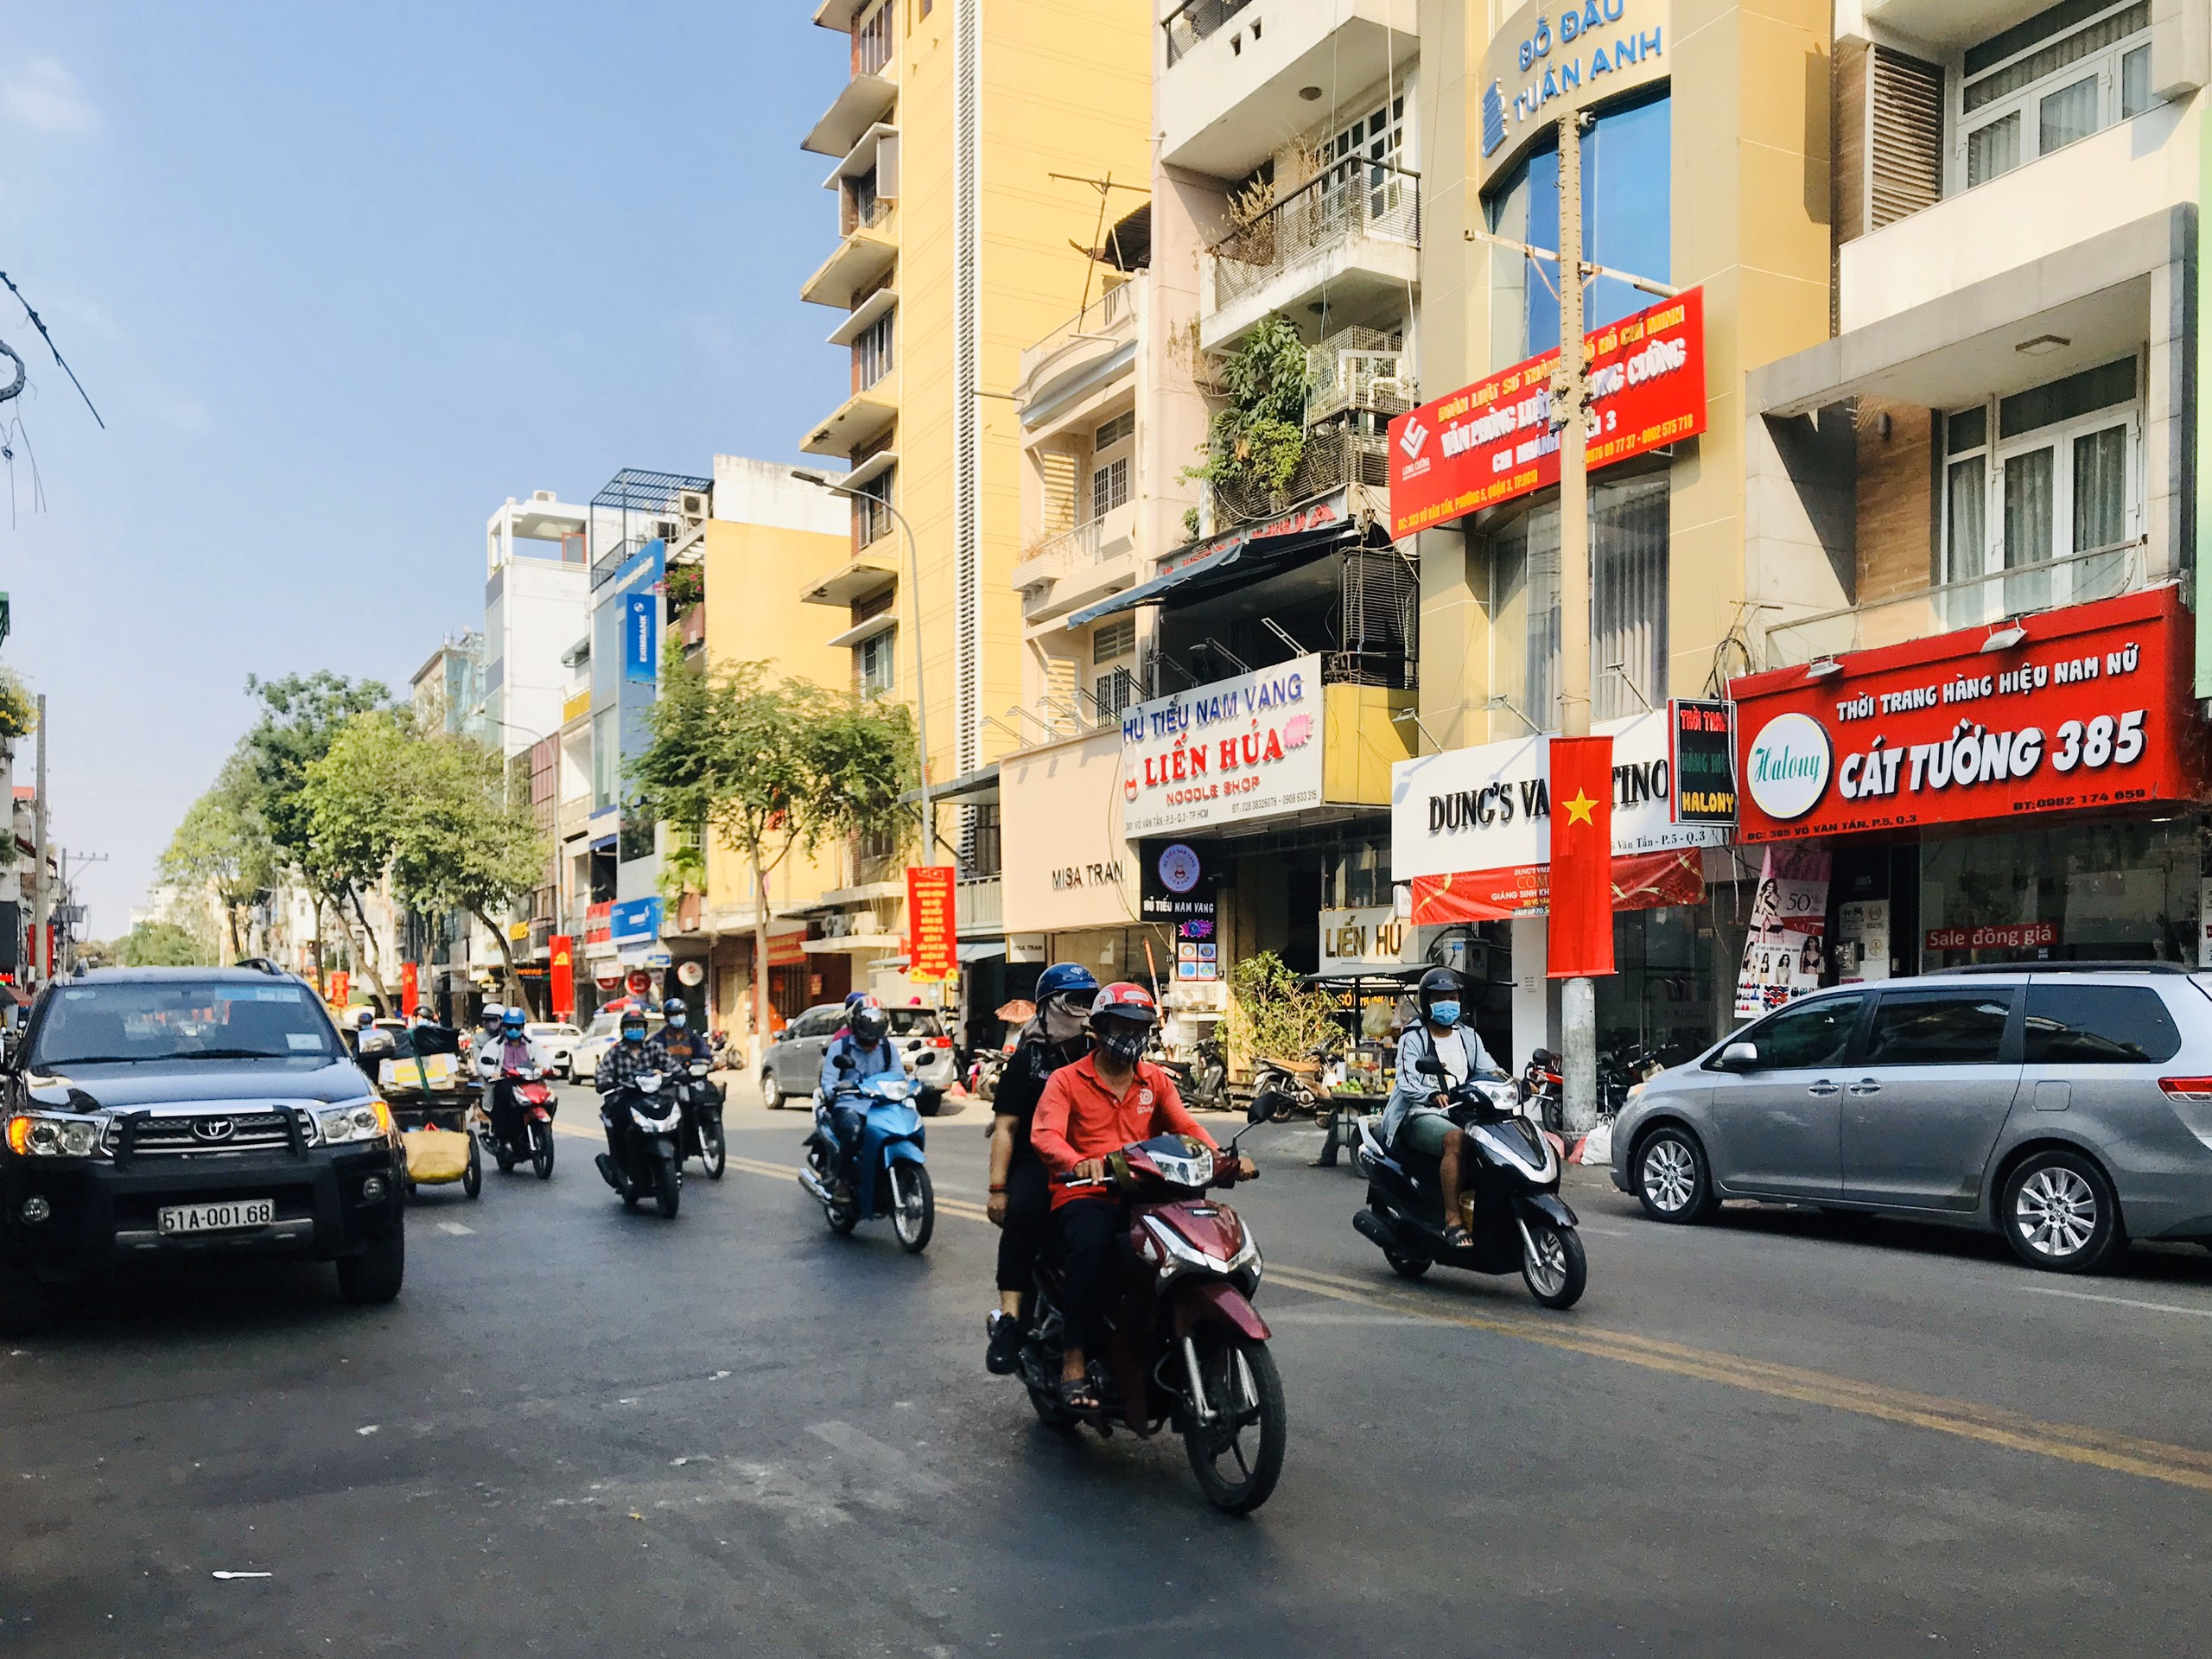banner: (1726, 608, 2186, 840), (1376, 288, 1710, 542), (1385, 713, 1691, 873), (1113, 660, 1327, 843), (914, 863, 963, 995)
